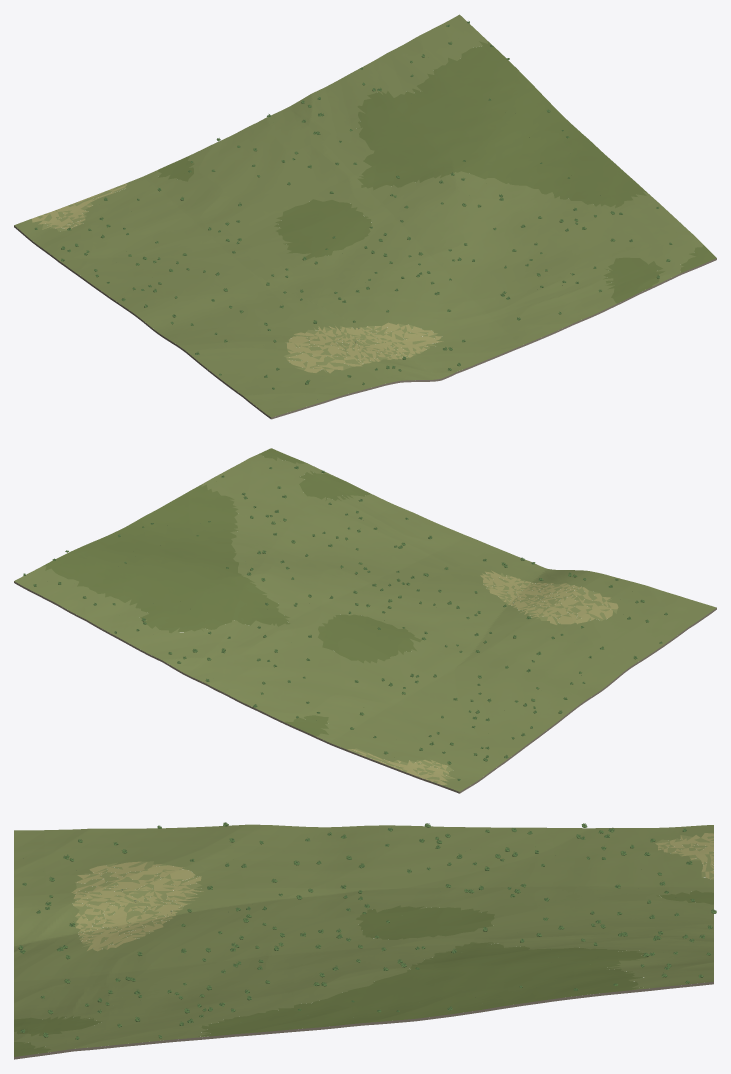
File: parca_+2_-8-yakin.glb
3 renders of one model, top to bottom at view 1: azimuth 30°, elevation 25°; view 2: azimuth 150°, elevation 25°; view 3: azimuth 270°, elevation 25°, orthographic. The views are drawn at different scales.
Visible parts, largest first — view 1: parca_+2_-8_arazi, parca_+2_-8_bitkiler; view 2: parca_+2_-8_arazi, parca_+2_-8_bitkiler; view 3: parca_+2_-8_arazi, parca_+2_-8_bitkiler.
Part boxes in pixels (x1,y1,x2,y2): parca_+2_-8_arazi: (14,14,716,419); parca_+2_-8_bitkiler: (34,21,672,399); parca_+2_-8_arazi: (14,448,716,793); parca_+2_-8_bitkiler: (23,457,667,780); parca_+2_-8_arazi: (14,824,713,1059); parca_+2_-8_bitkiler: (18,822,716,1039).
Bounding box in the file's own units: 1003 × 238 × 1004.
